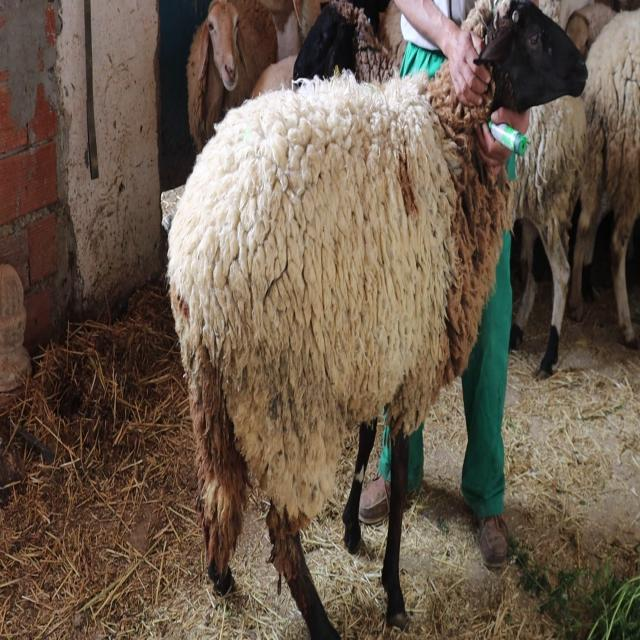Score_5: (167, 0, 587, 639)
